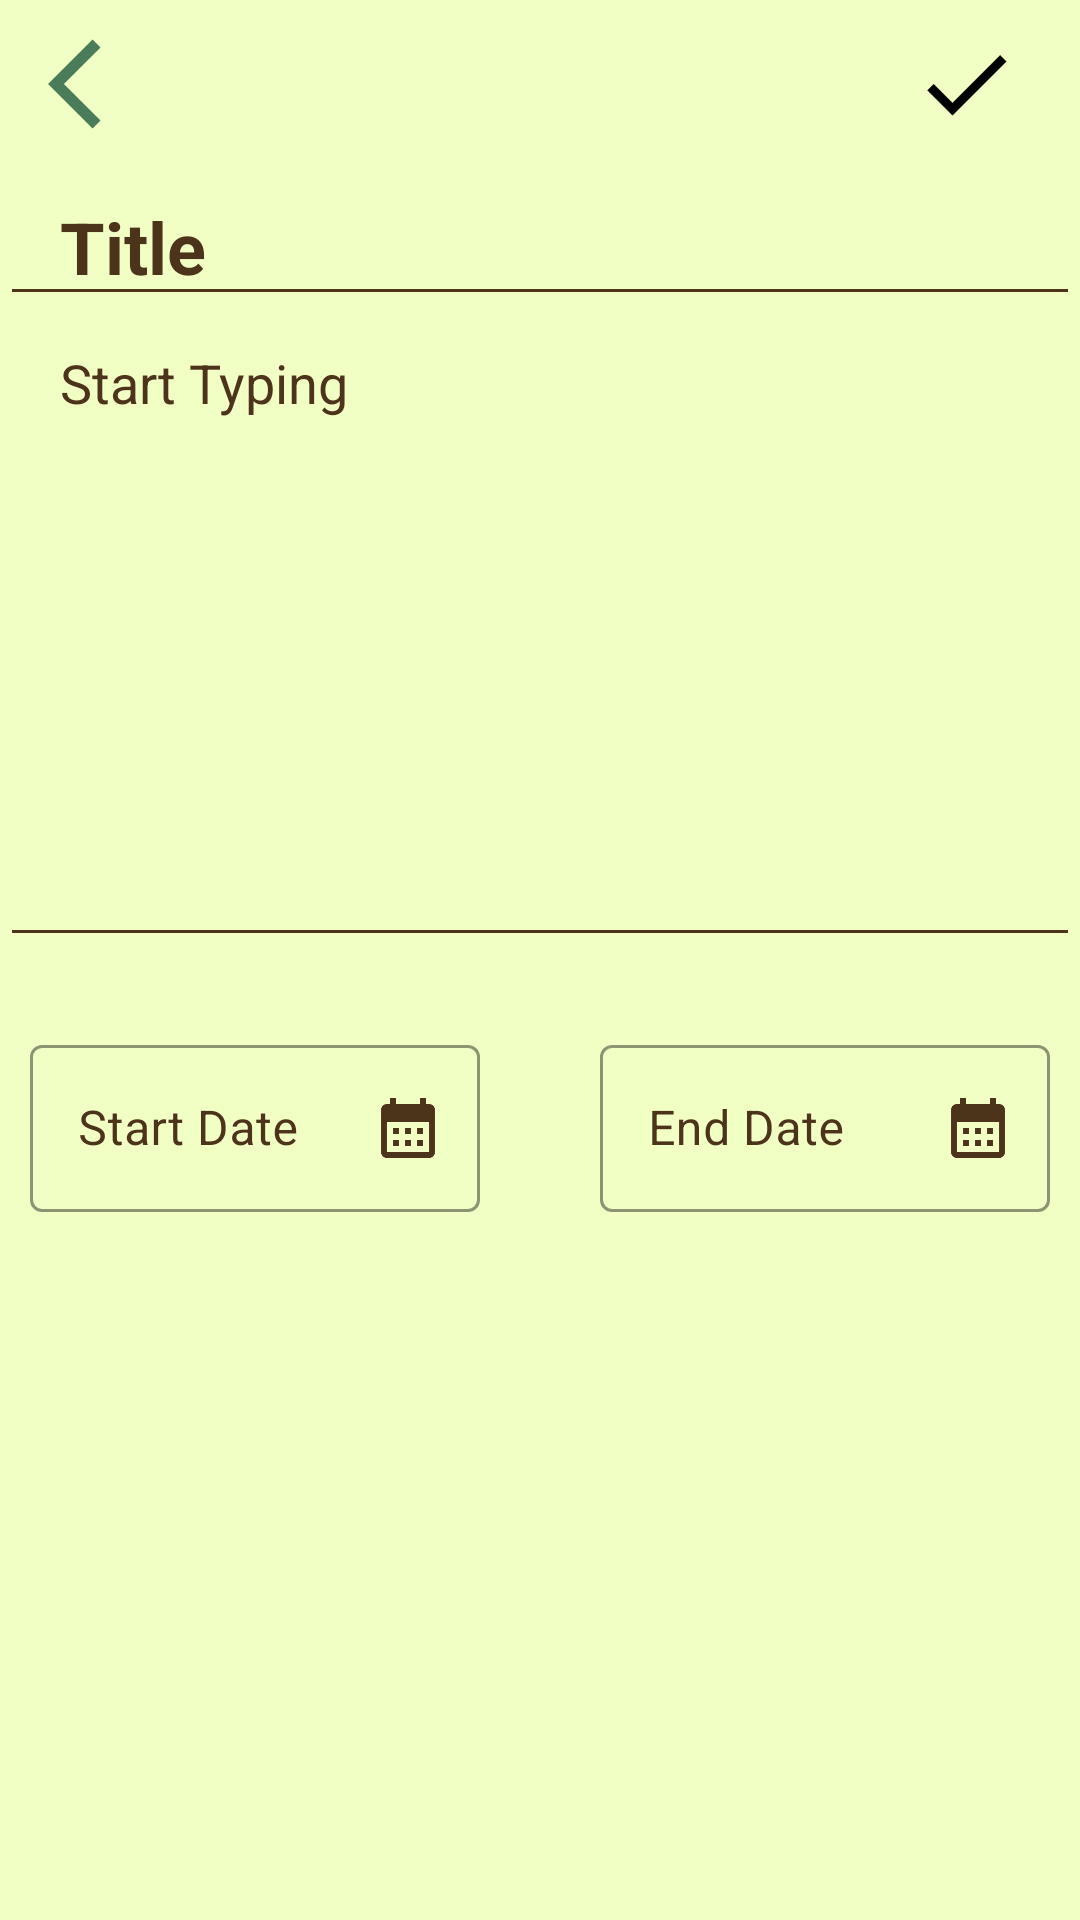

Icon bounding boxes for this 1080px x 1920px phone screenshot, format (x1, y1, x2, y2):
arrow back: (48, 39, 101, 129)
check: (927, 55, 1007, 116)
